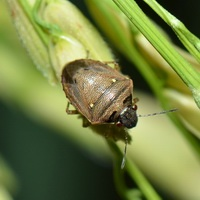insect: (61, 59, 176, 127)
